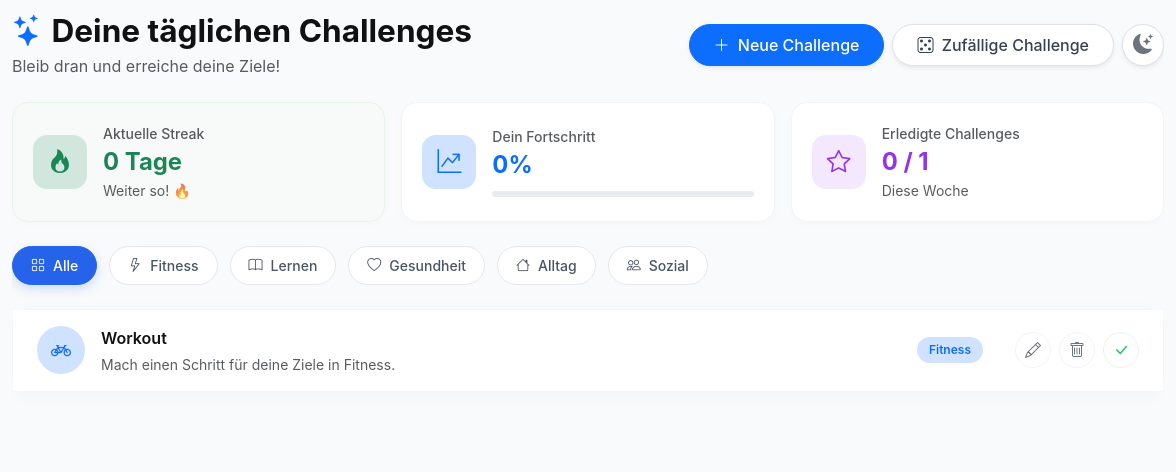
Test: ChallengeList › loads and displays a generated challenge suggestion from the backend
The image size is (1176, 472).
Click the button "Zufällige Challenge": {"x": 1003, "y": 45} 892,24 -> 1114,66
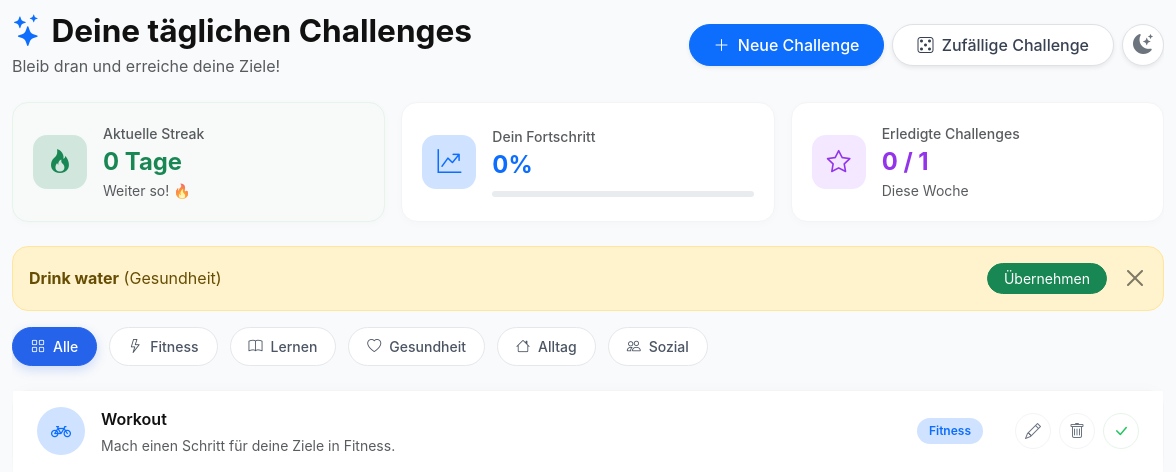
Now the text "Drink water" is shown, box 29,268 -> 119,288
Now the text "Übernehmen" is shown, box 987,263 -> 1107,294
